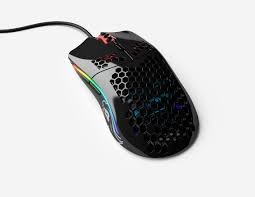mouse: (64, 22, 206, 164)
